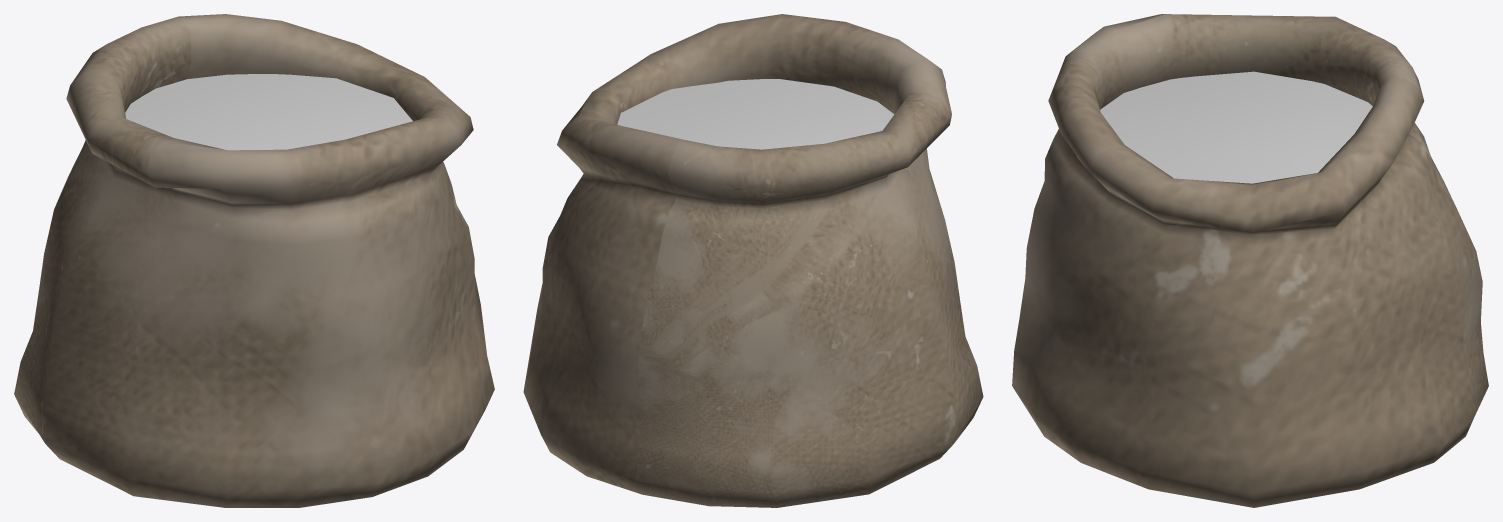
Rendered from Saco.fbx.
The picture shows the model from 3 angles, left to right: view 1: azimuth 30°, elevation 25°; view 2: azimuth 150°, elevation 25°; view 3: azimuth 270°, elevation 25°; orthographic projection. The views are drawn at different scales.
Parts seen in each view (by area): view 1: Sack1; view 2: Sack1; view 3: Sack1.
Boxes of the visible parts, x1,y1,x2,y2 form: Sack1: [14, 14, 494, 507]; Sack1: [523, 14, 983, 507]; Sack1: [1012, 14, 1488, 507].
Size of the model in its own units: 136 by 103 by 132.
